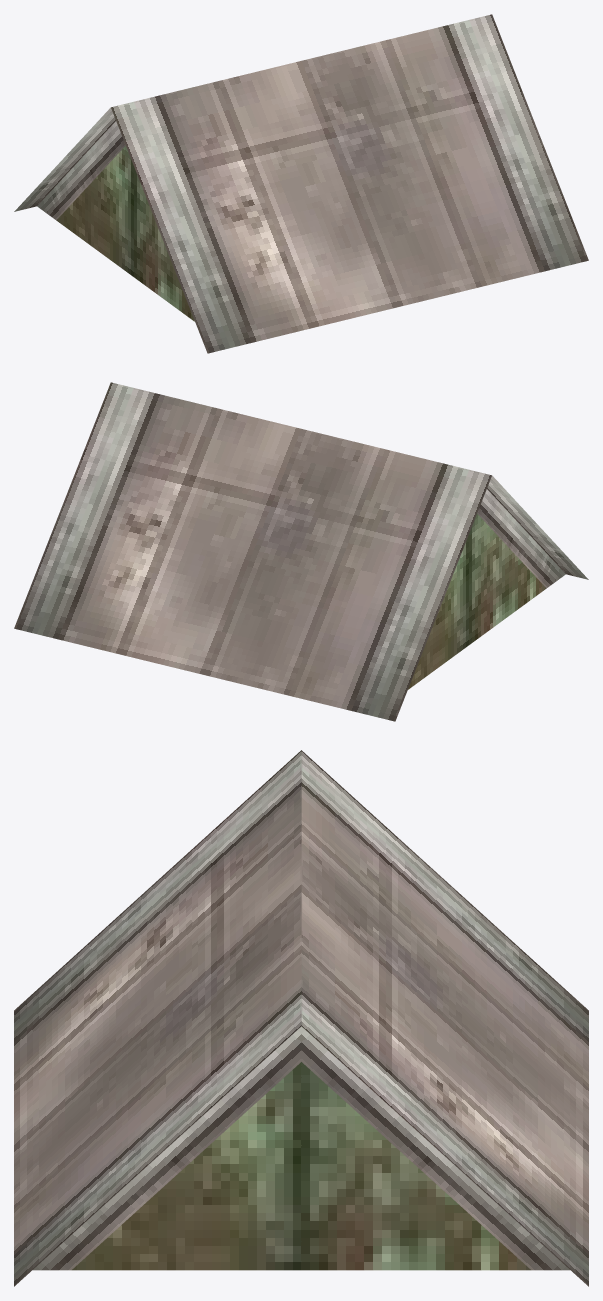
Rendered from kenney-retro-urban-wall-b-roof-detailed.glb.
The picture shows the model from 3 angles, top to bottom: view 1: azimuth 30°, elevation 25°; view 2: azimuth 150°, elevation 25°; view 3: azimuth 270°, elevation 25°; orthographic projection. The views are drawn at different scales.
Parts seen in each view (by area): view 1: wall-b-roof-detailed; view 2: wall-b-roof-detailed; view 3: wall-b-roof-detailed.
Part boxes in pixels (bbox=[...]): wall-b-roof-detailed: bbox=[14, 14, 588, 353]; wall-b-roof-detailed: bbox=[14, 382, 588, 721]; wall-b-roof-detailed: bbox=[14, 750, 588, 1286].
Size of the model in its own units: 1.14 by 0.5001 by 1.
3 materials, 3 textured.
